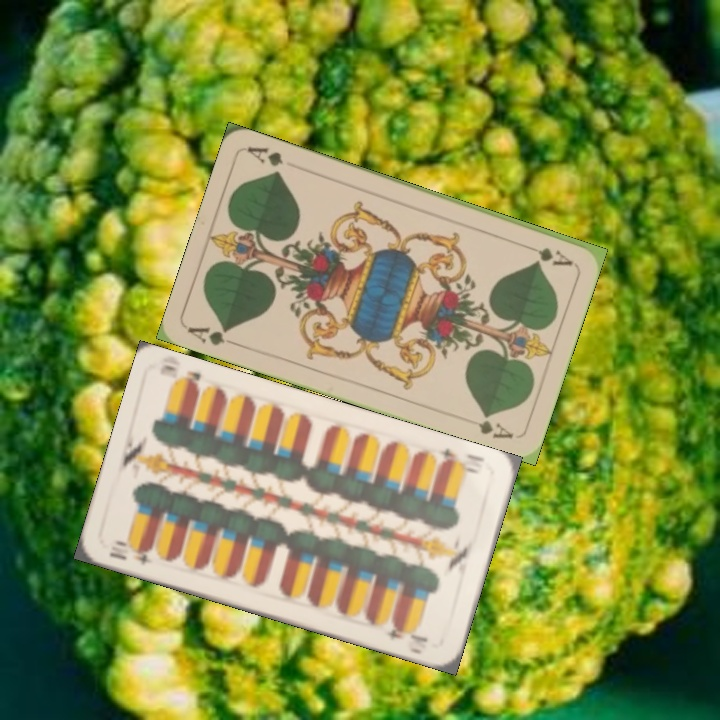E10: (435, 443, 487, 477), (112, 536, 154, 567)
GA: (519, 240, 576, 269), (184, 322, 242, 350)
